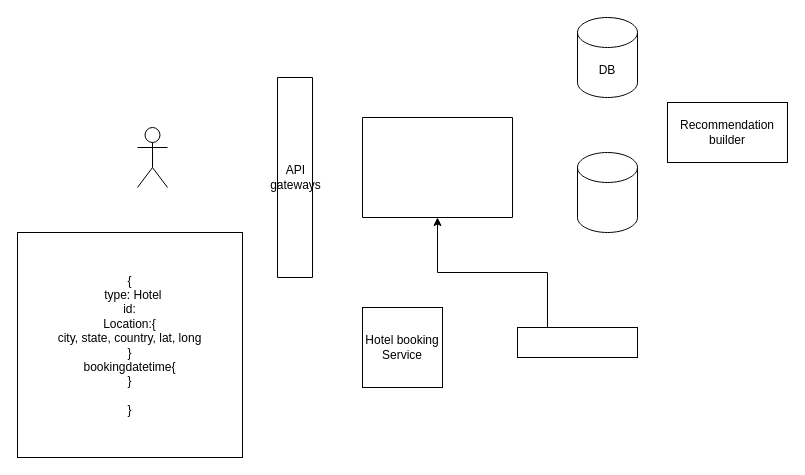
Some shapes in this 805 by 475 pixel diagram are drawn without their labels. Each missing label, with the centre of its shape:
Actor: (x=152, y=157)
recommendation service: (x=437, y=167)
